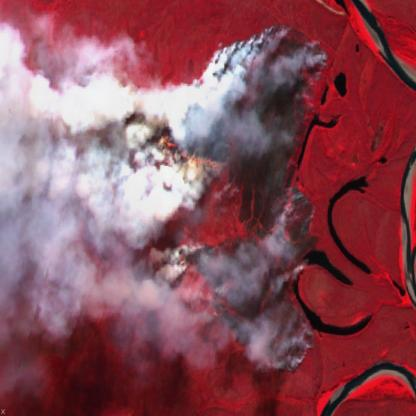fire: (132, 16, 336, 386)
